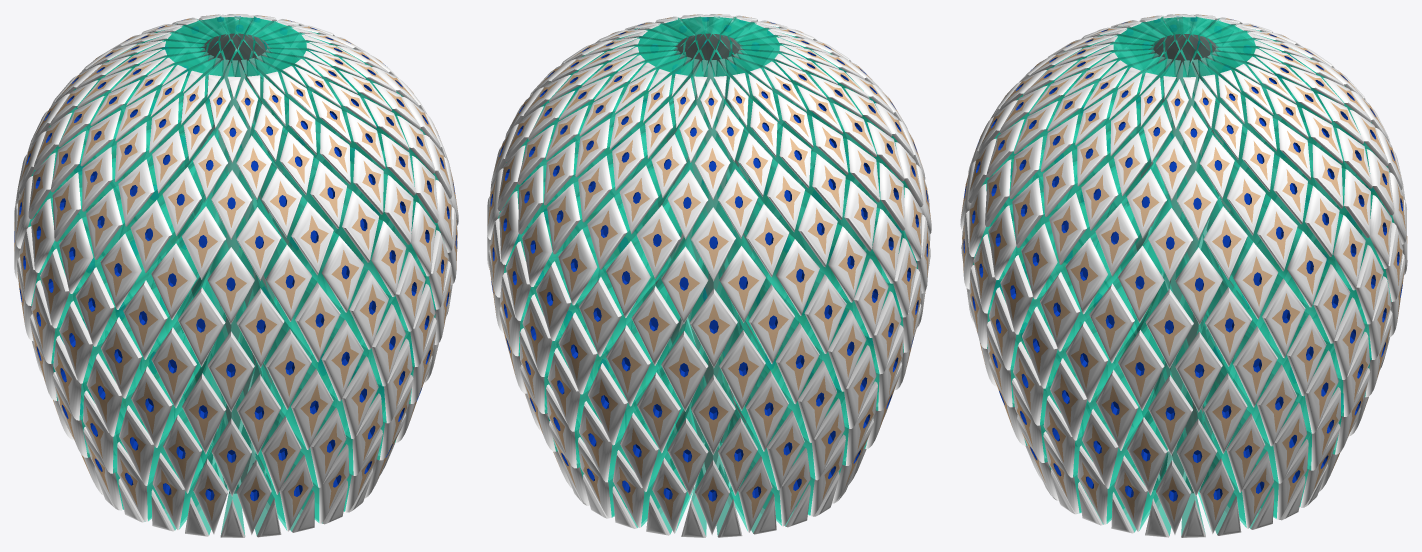
Rendered from pot1.glb.
3 renders of one model, left to right at view 1: azimuth 30°, elevation 25°; view 2: azimuth 150°, elevation 25°; view 3: azimuth 270°, elevation 25°, orthographic.
Visible parts, largest first — view 1: Plane010_Material #14_0, Plane010_Side_0, Plane010_Flower_0, Plane010_Inside_0, Plane010_Material #2_0; view 2: Plane010_Material #14_0, Plane010_Side_0, Plane010_Flower_0, Plane010_Inside_0, Plane010_Material #2_0; view 3: Plane010_Material #14_0, Plane010_Side_0, Plane010_Flower_0, Plane010_Inside_0, Plane010_Material #2_0.
Part boxes in pixels (x1,y1,x2,y2): Plane010_Material #14_0: (14, 14, 458, 537); Plane010_Side_0: (28, 16, 441, 535); Plane010_Flower_0: (14, 14, 457, 521); Plane010_Inside_0: (166, 33, 303, 493); Plane010_Material #2_0: (14, 16, 456, 501); Plane010_Material #14_0: (487, 14, 931, 537); Plane010_Side_0: (498, 16, 917, 535); Plane010_Flower_0: (487, 14, 930, 521); Plane010_Inside_0: (643, 33, 778, 491); Plane010_Material #2_0: (490, 16, 928, 501); Plane010_Material #14_0: (960, 14, 1407, 537); Plane010_Side_0: (973, 16, 1394, 535); Plane010_Flower_0: (961, 14, 1407, 521); Plane010_Inside_0: (1121, 34, 1247, 493); Plane010_Material #2_0: (963, 16, 1402, 501).
Size of the model in its own units: 0.6244 by 0.6678 by 0.6246.
